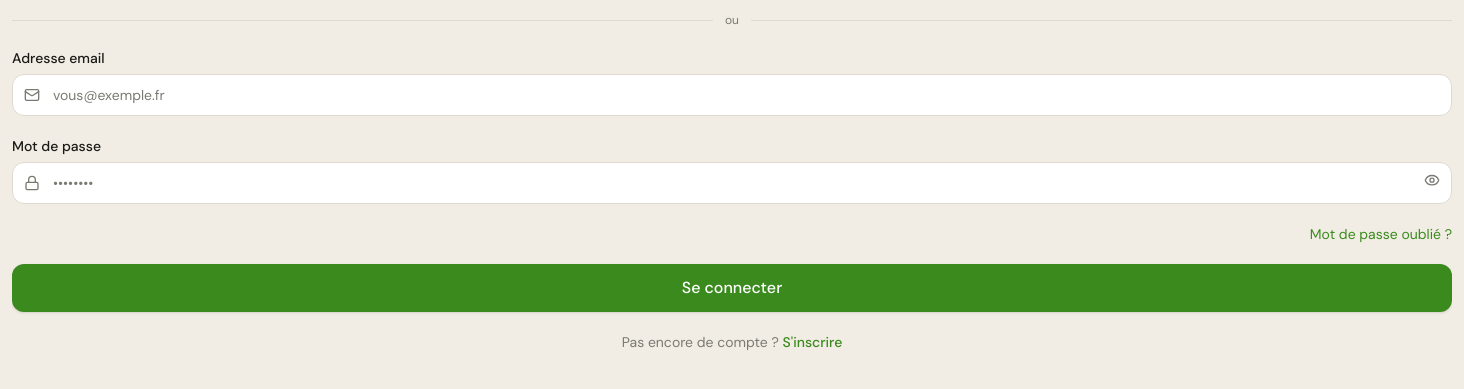
LoginForm — validation › affiche "Email invalide" pour un email mal formé
In the field labelled "Adresse email": (732, 95) [12,74,1452,116], type "pasunemail"
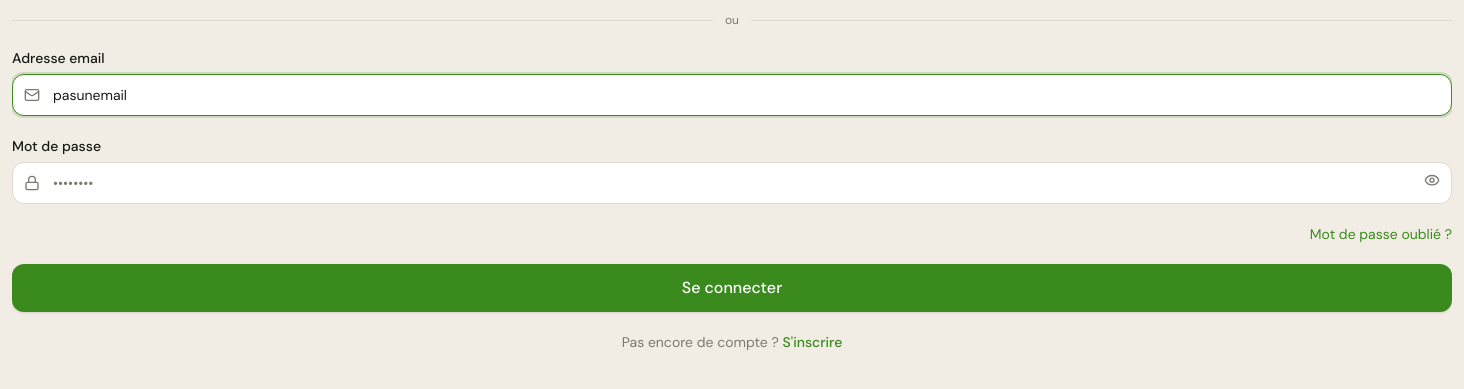
In the password field labelled "Mot de passe": (732, 183) [12,162,1452,204], type "secret"
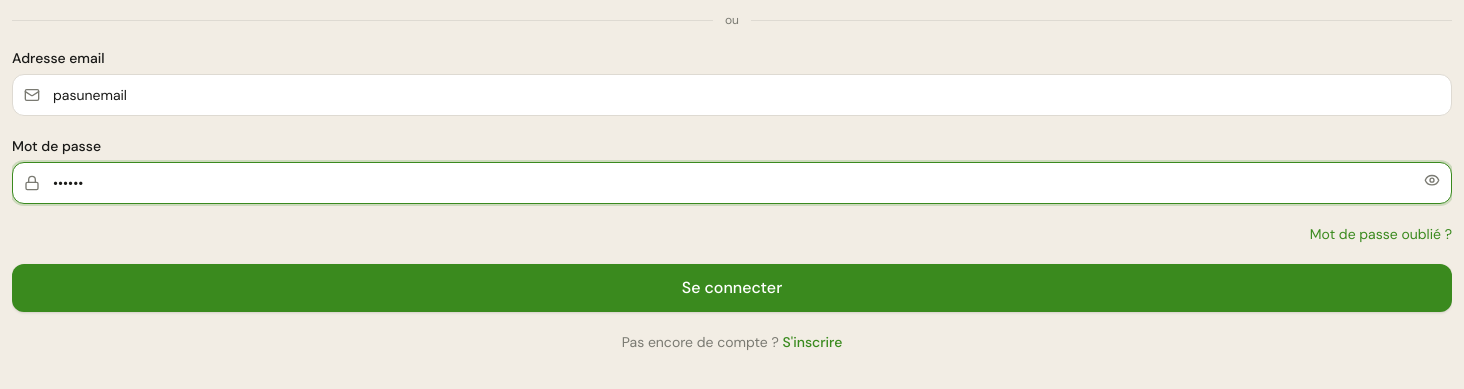
Click the button "Se connecter": (732, 288) [12,264,1452,312]
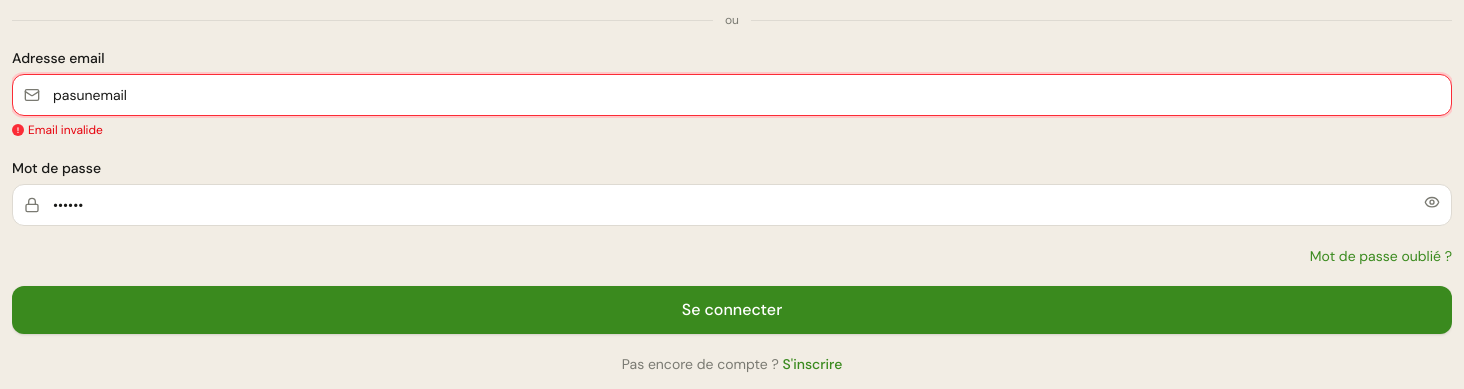
Expected: the text "Email invalide" is shown, [28,122,103,138]
